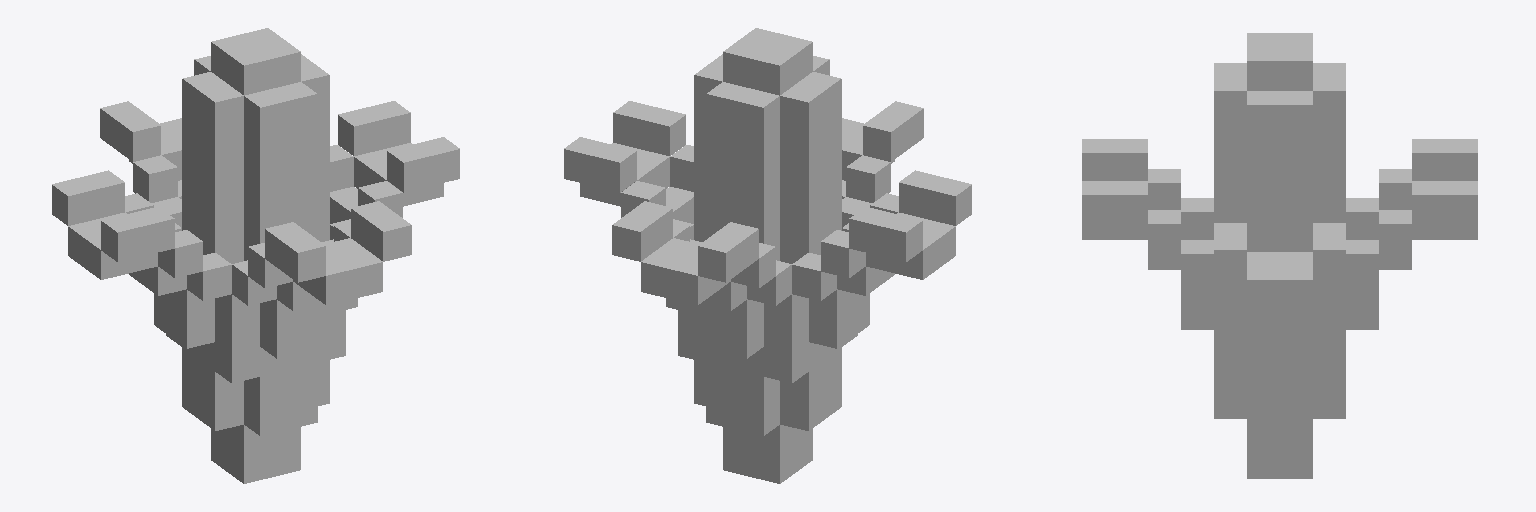
Rendered from corn_top.obj.
3 renders of one model, left to right at view 1: azimuth 30°, elevation 25°; view 2: azimuth 150°, elevation 25°; view 3: azimuth 270°, elevation 25°, orthographic.
Parts seen in each view (by area): view 1: Box024, Box023, Box025, Box001, Box034, Box086, Box005, Box015, Box008, Box057, Box004, Box018 (+28 smaller); view 2: Box024, Box023, Box025, Box001, Box037, Box077, Box006, Box017, Box010, Box057, Box004, Box018 (+28 smaller); view 3: Box024, Box023, Box025, Box001, Box068, Box035, Box036, Box003, Box016, Box007, Box038, Box045 (+28 smaller).
Boxes of the visible parts, x1,y1,x2,y2 form: Box024: [182, 54, 329, 263]; Box023: [194, 56, 317, 260]; Box025: [211, 28, 300, 95]; Box001: [211, 425, 300, 483]; Box034: [215, 294, 259, 383]; Box086: [310, 250, 382, 305]; Box005: [244, 393, 317, 436]; Box015: [260, 315, 333, 358]; Box008: [244, 363, 317, 406]; Box057: [68, 219, 129, 279]; Box004: [182, 378, 243, 430]; Box018: [154, 296, 214, 348]; Box024: [694, 54, 841, 263]; Box023: [706, 56, 829, 260]; Box025: [723, 28, 812, 95]; Box001: [723, 425, 812, 483]; Box037: [764, 294, 808, 383]; Box077: [641, 250, 713, 305]; Box006: [706, 393, 779, 436]; Box017: [690, 315, 763, 358]; Box010: [706, 363, 779, 406]; Box057: [894, 219, 955, 279]; Box004: [780, 378, 841, 430]; Box018: [809, 296, 869, 348]; Box024: [1247, 91, 1312, 251]; Box023: [1214, 63, 1345, 222]; Box025: [1247, 33, 1312, 90]; Box001: [1247, 433, 1312, 478]; Box068: [1247, 266, 1312, 309]; Box035: [1214, 298, 1246, 373]; Box036: [1313, 298, 1345, 373]; Box003: [1247, 403, 1312, 432]; Box016: [1247, 328, 1312, 357]; Box007: [1247, 374, 1312, 402]; Box038: [1181, 240, 1213, 283]; Box045: [1346, 240, 1378, 283].
Bounding box in the file's own units: 12 × 14 × 12.